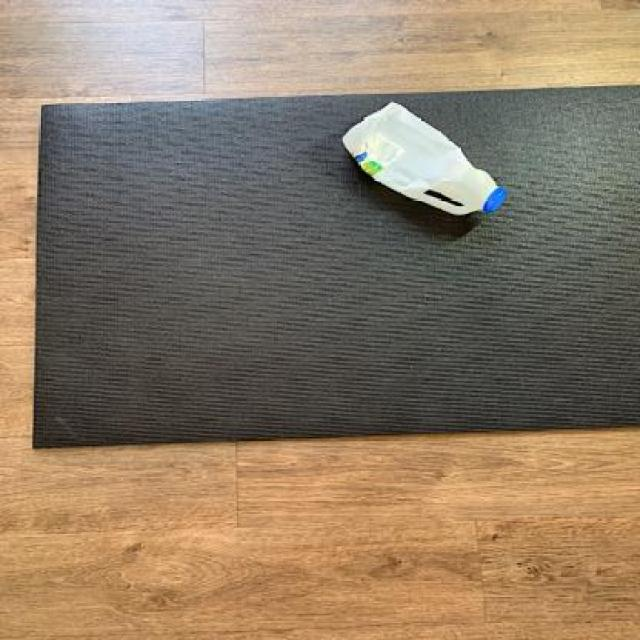trash: (340, 101, 512, 225)
